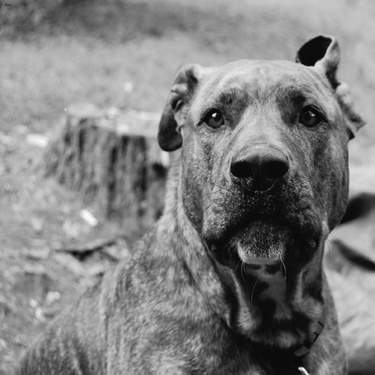dog: (7, 38, 365, 371)
